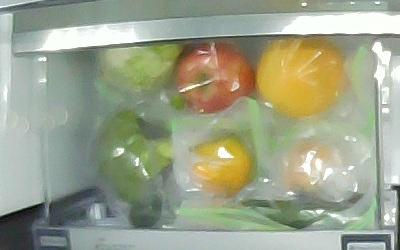apple_vinyl: (174, 41, 254, 114)
broccoli_vinyl: (95, 110, 174, 202)
cucumber_vinyl: (128, 191, 371, 227)
grapefruit_vinyl: (256, 38, 345, 118)
lettuce_vinyl: (99, 43, 186, 91)
persimmon_vinyl: (189, 131, 255, 198)
